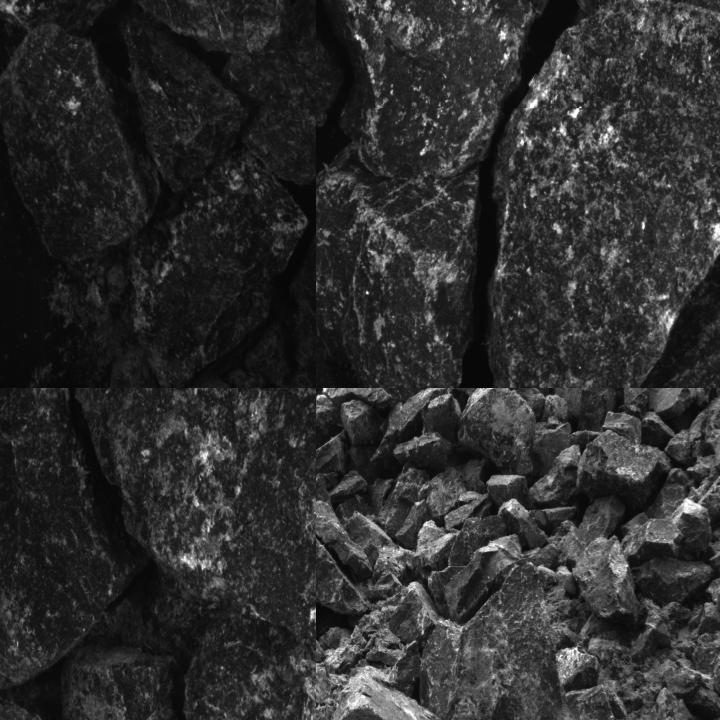stone: (487, 0, 719, 387), (70, 388, 315, 658), (316, 0, 559, 176), (0, 388, 145, 681), (129, 150, 308, 387), (316, 143, 481, 387), (0, 27, 159, 271), (422, 558, 624, 719), (124, 16, 245, 192), (217, 0, 315, 188), (573, 280, 719, 387), (58, 642, 198, 719), (128, 0, 299, 58), (576, 430, 674, 512), (441, 532, 524, 620), (456, 388, 536, 479), (316, 670, 444, 719), (623, 499, 713, 568), (573, 536, 638, 621), (556, 496, 628, 568), (316, 532, 368, 615), (633, 558, 714, 607), (390, 578, 441, 654), (382, 462, 428, 543), (528, 443, 584, 507), (316, 0, 341, 140), (450, 516, 508, 567), (627, 686, 703, 719), (426, 466, 466, 523), (341, 400, 384, 448), (565, 388, 624, 419), (647, 388, 697, 423), (564, 683, 612, 719), (322, 388, 397, 411)
